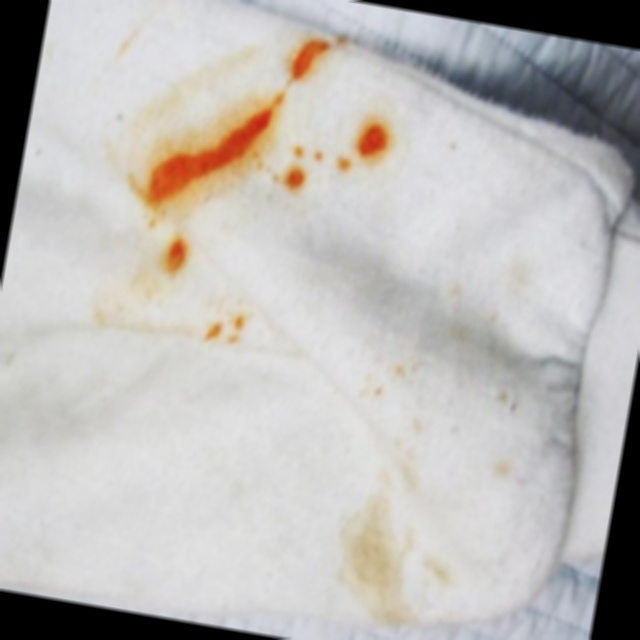kimchi: (109, 1, 409, 256), (342, 229, 558, 454), (310, 446, 490, 638), (194, 295, 264, 359), (150, 228, 204, 294)
